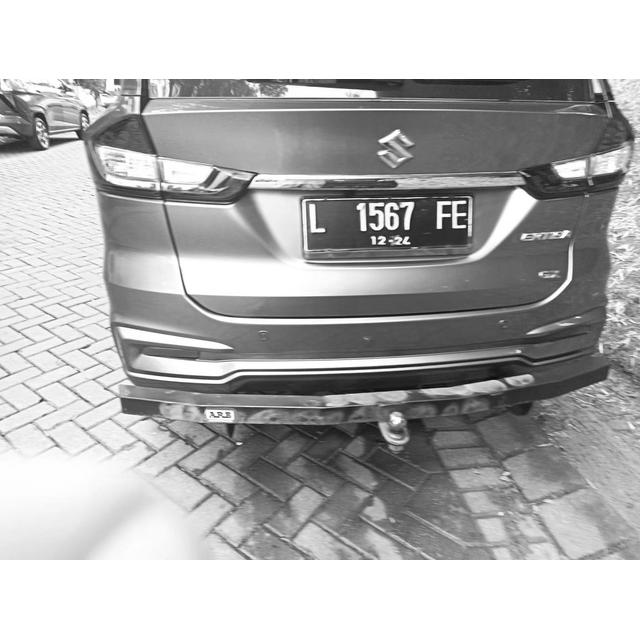license: (307, 199, 467, 246)
